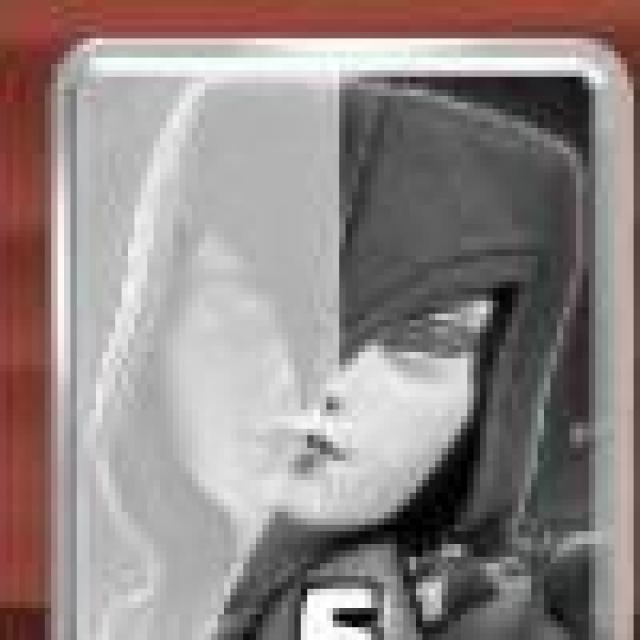Witch: (67, 45, 629, 640)
